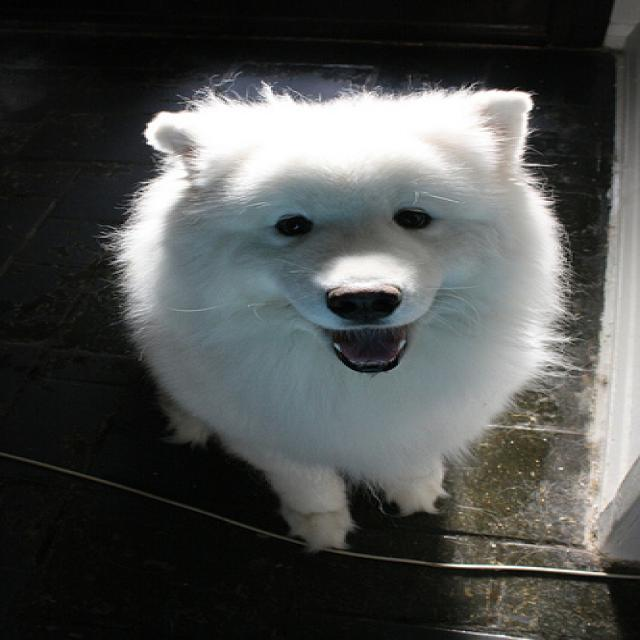dog-samoyed: (98, 73, 590, 563)
